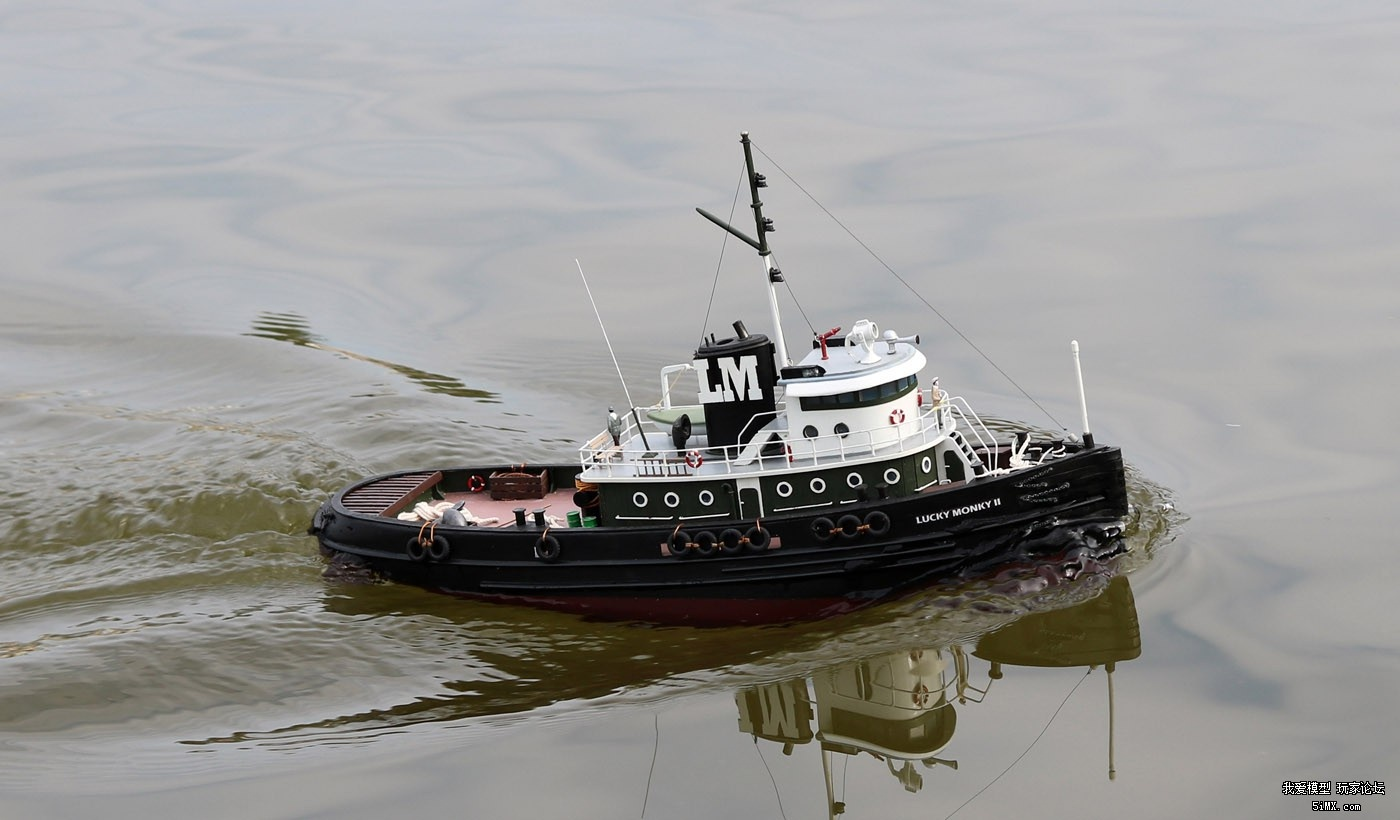otherboat: (302, 215, 1134, 611)
